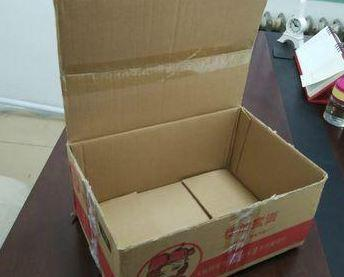cardboard: (56, 0, 326, 276)
